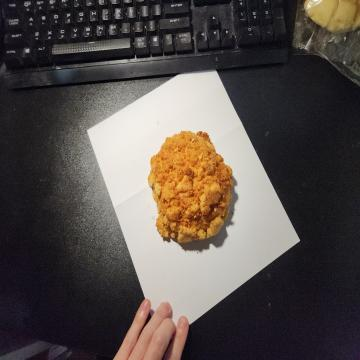soboru_bread: (147, 130, 234, 242)
